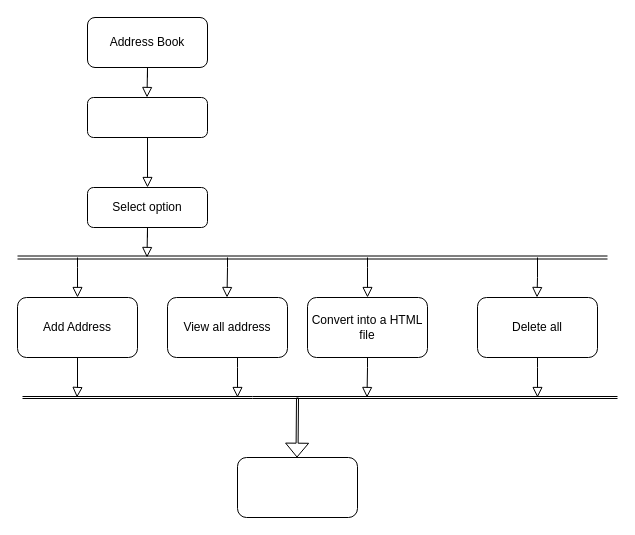
Some shapes in this 635 by 535 pixel diagram are drawn without their labels. The shapes that lost their labels are listed below. From the top down, each one's centre as x and y in pixels, then its label:
At point 147,117: "Menu".
At point 297,487: "Exit".
